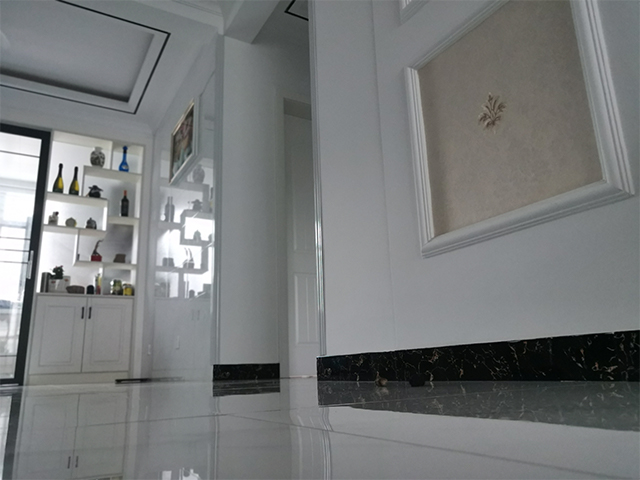cabinet: (19, 293, 132, 387)
feces: (407, 370, 428, 387), (373, 376, 389, 387)
